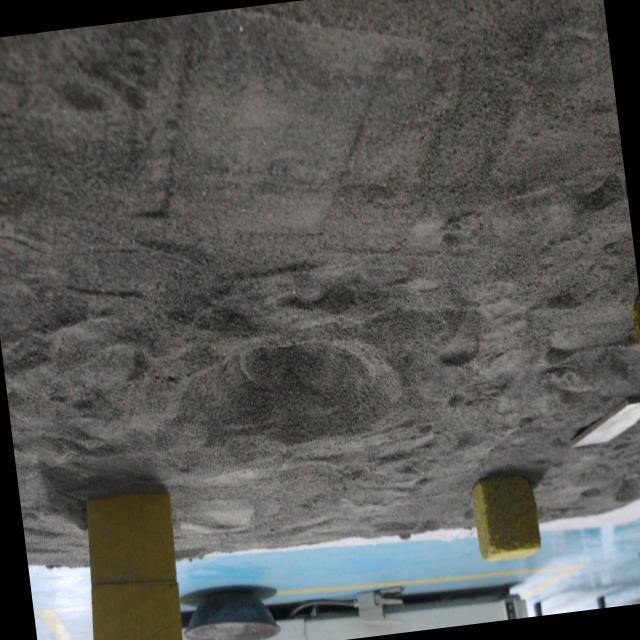box: (69, 480, 191, 640), (468, 466, 546, 564)
crater: (170, 318, 408, 476)
